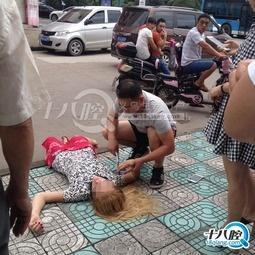Fall-Detected: (25, 123, 141, 236)
